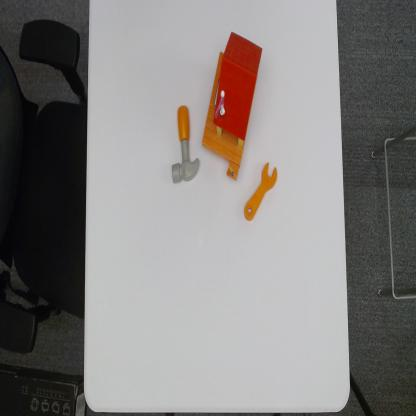Hammer: (171, 103, 201, 186)
House: (201, 30, 264, 182)
Screwdriver: (244, 160, 278, 226)
